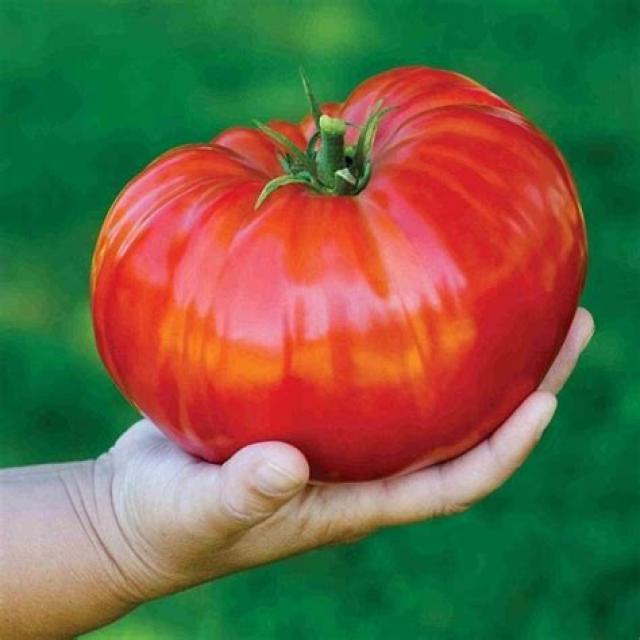Tomato: (88, 67, 589, 489)
